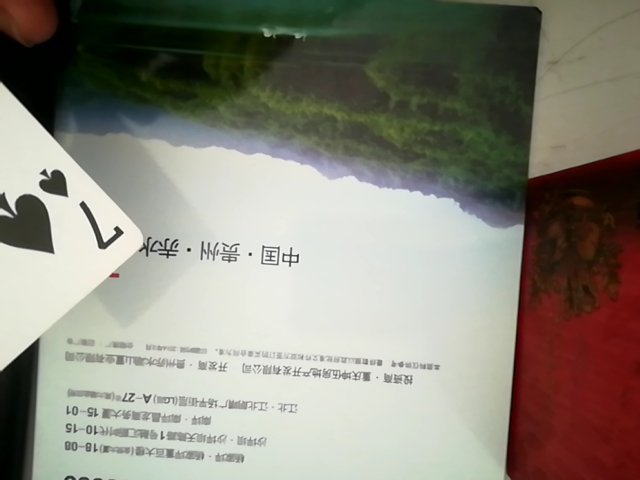ht 7: (0, 0, 149, 423)
